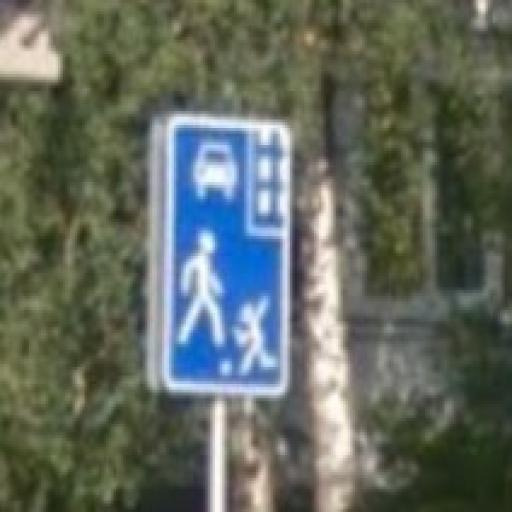traffic_sign: (163, 115, 293, 396)
